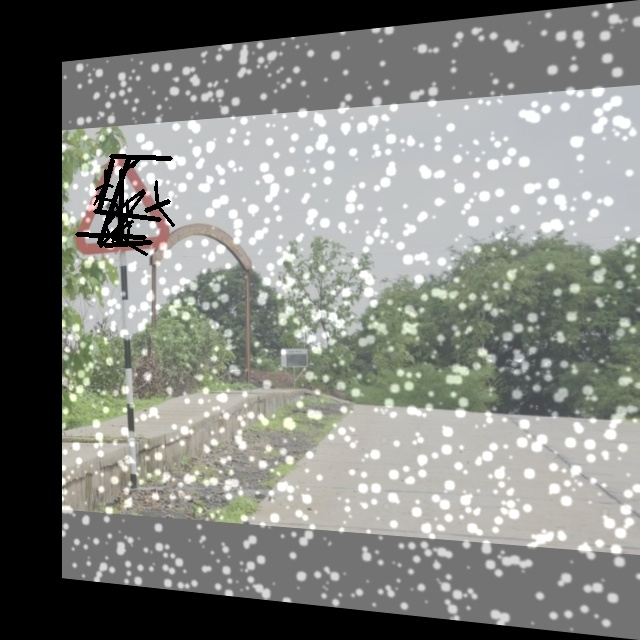Y_Intersection: (77, 150, 172, 255)
